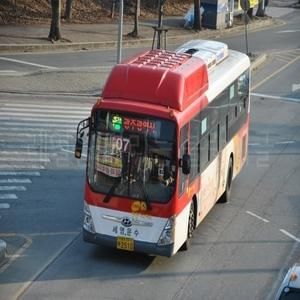07bus: (86, 38, 257, 257)
